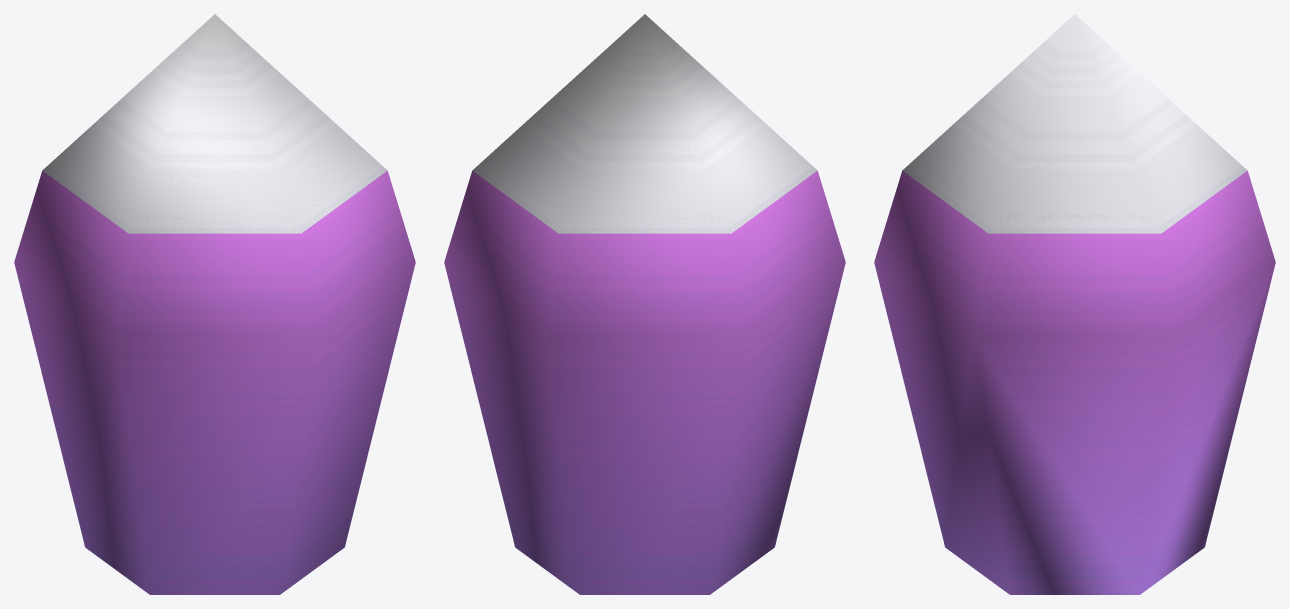
Rendered from snow-detail-crystal.glb.
3 renders of one model, left to right at view 1: azimuth 30°, elevation 25°; view 2: azimuth 150°, elevation 25°; view 3: azimuth 270°, elevation 25°, orthographic.
Parts seen in each view (by area): view 1: snow-detail-crystal; view 2: snow-detail-crystal; view 3: snow-detail-crystal.
Part boxes in pixels (x1,y1,x2,y2): snow-detail-crystal: [14, 14, 415, 594]; snow-detail-crystal: [444, 14, 845, 594]; snow-detail-crystal: [874, 14, 1275, 594].
Size of the model in its own units: 0.2512 by 0.425 by 0.29.
Materials: 1 (1 with a texture image).
